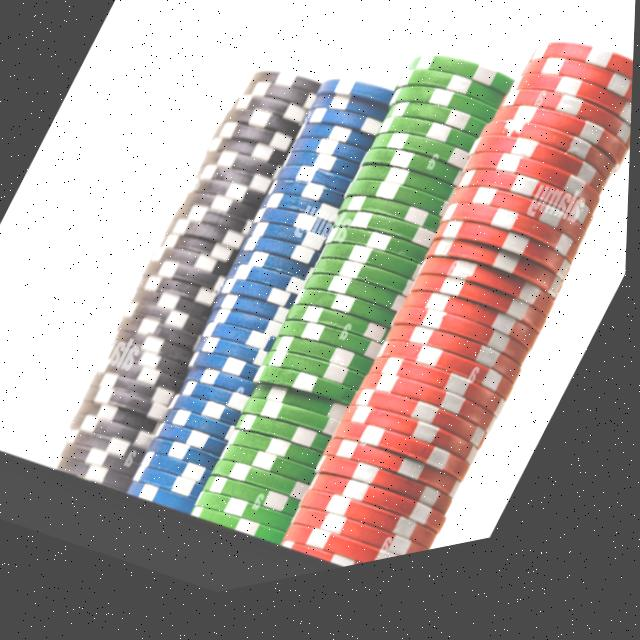Chip: (274, 31, 636, 594), (178, 33, 534, 582), (41, 42, 349, 525), (110, 57, 413, 541)
